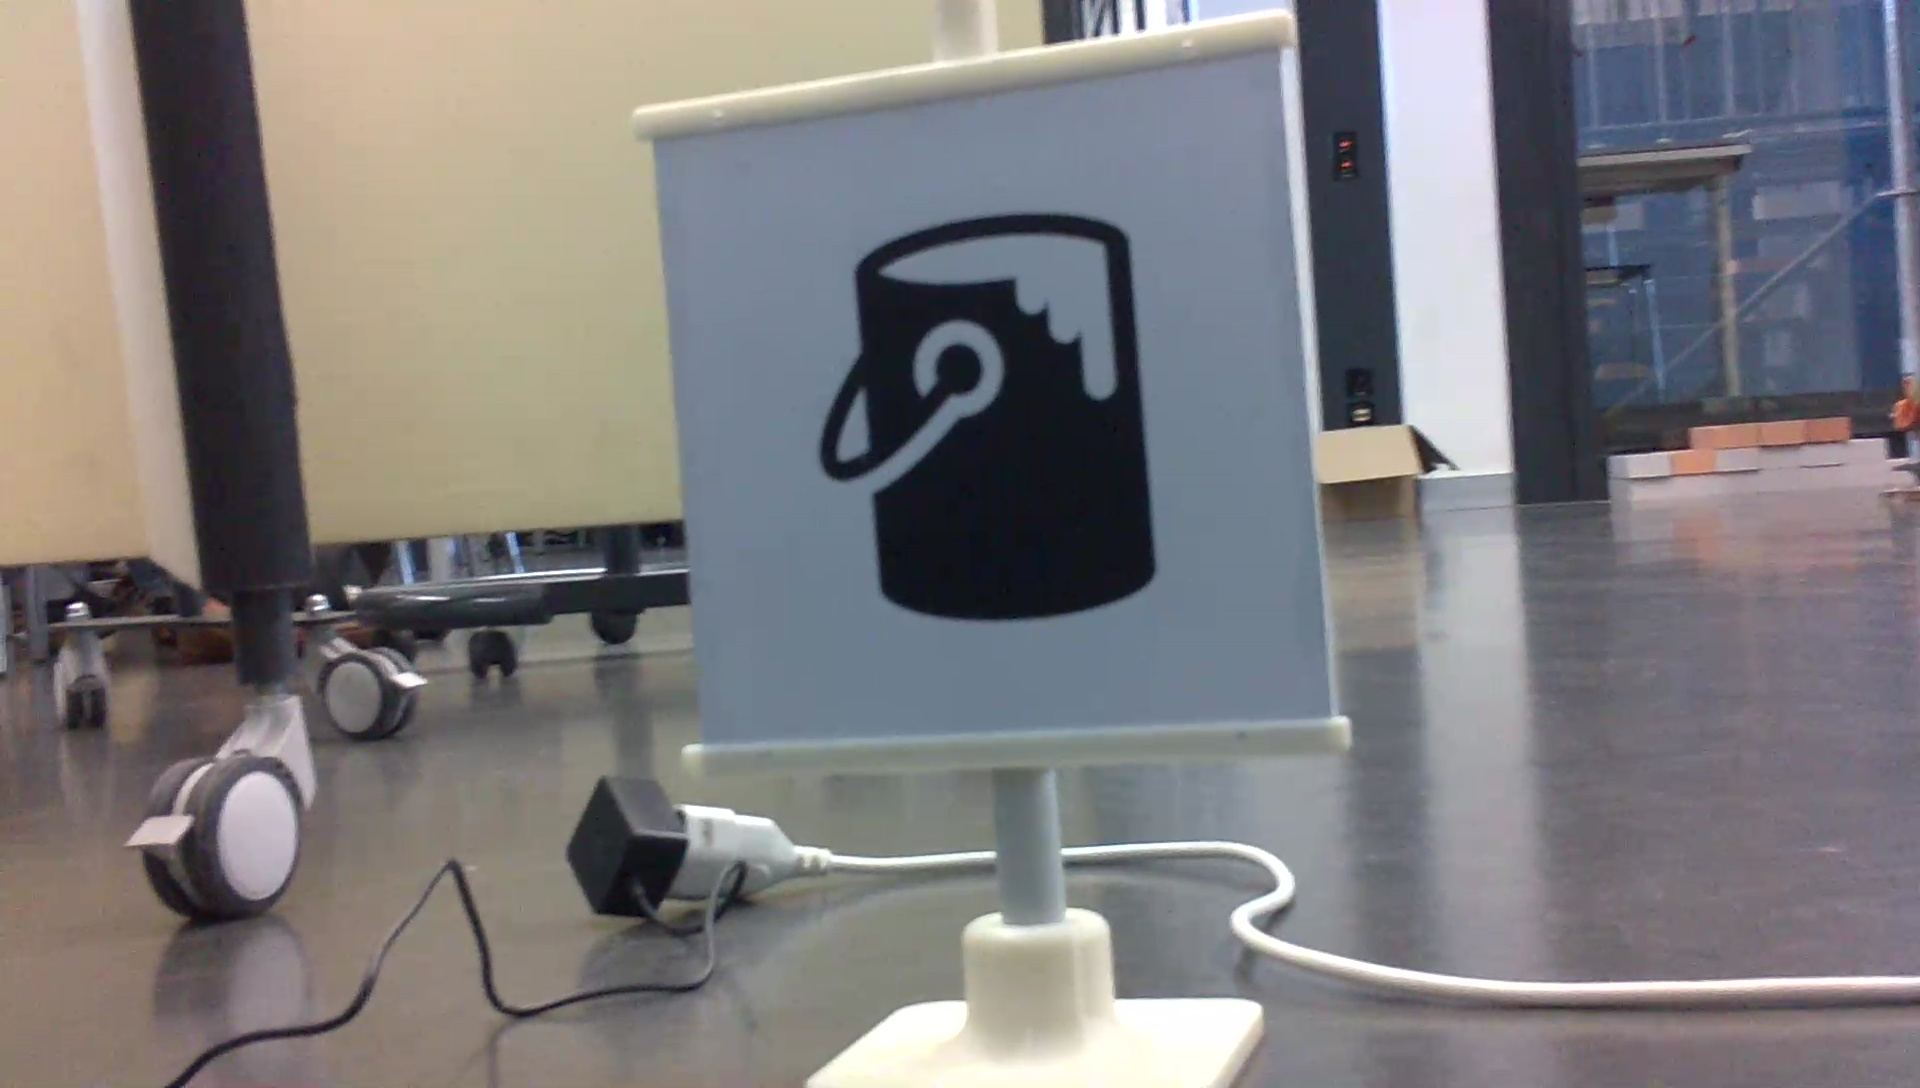bucket: (799, 200, 1167, 630)
